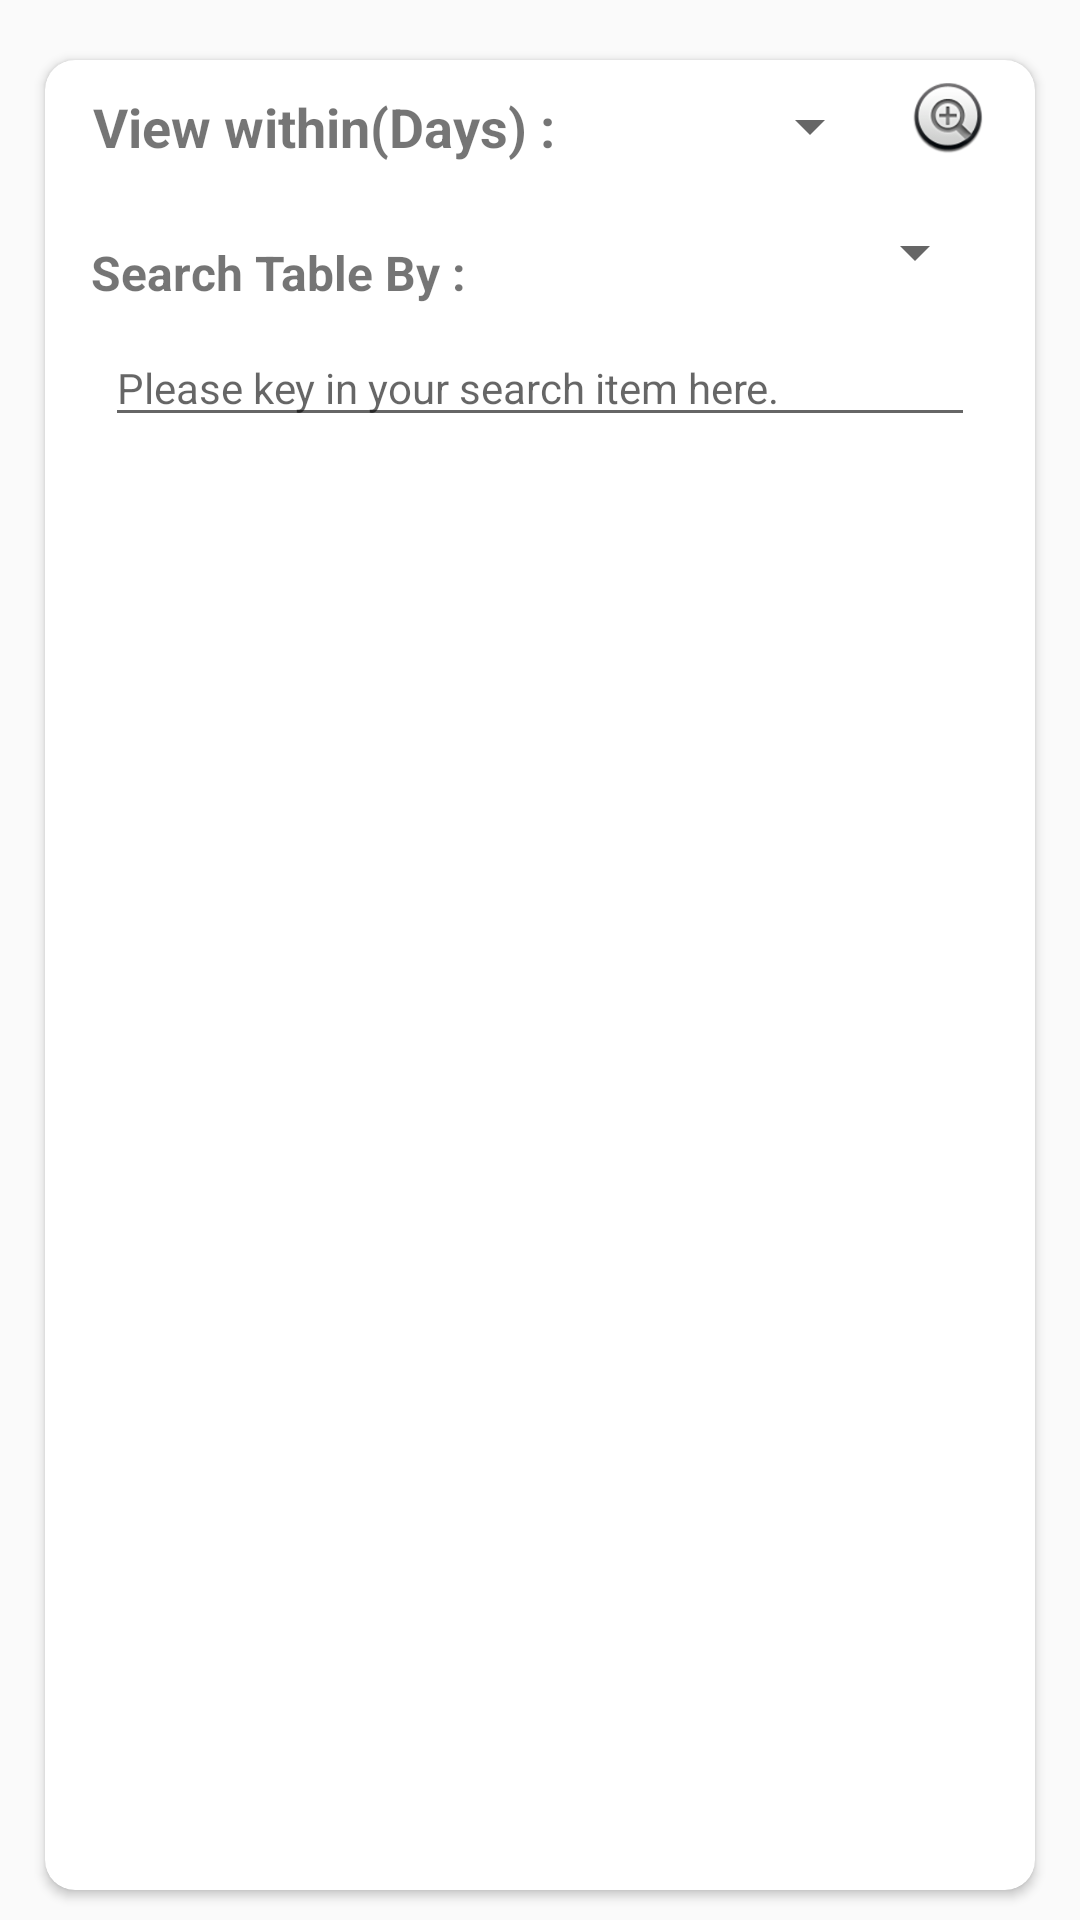

Where icons sit on this 1080px x 1920px app screen, as [x1,y1,x2,y2]:
plus: [914,83,982,153]
